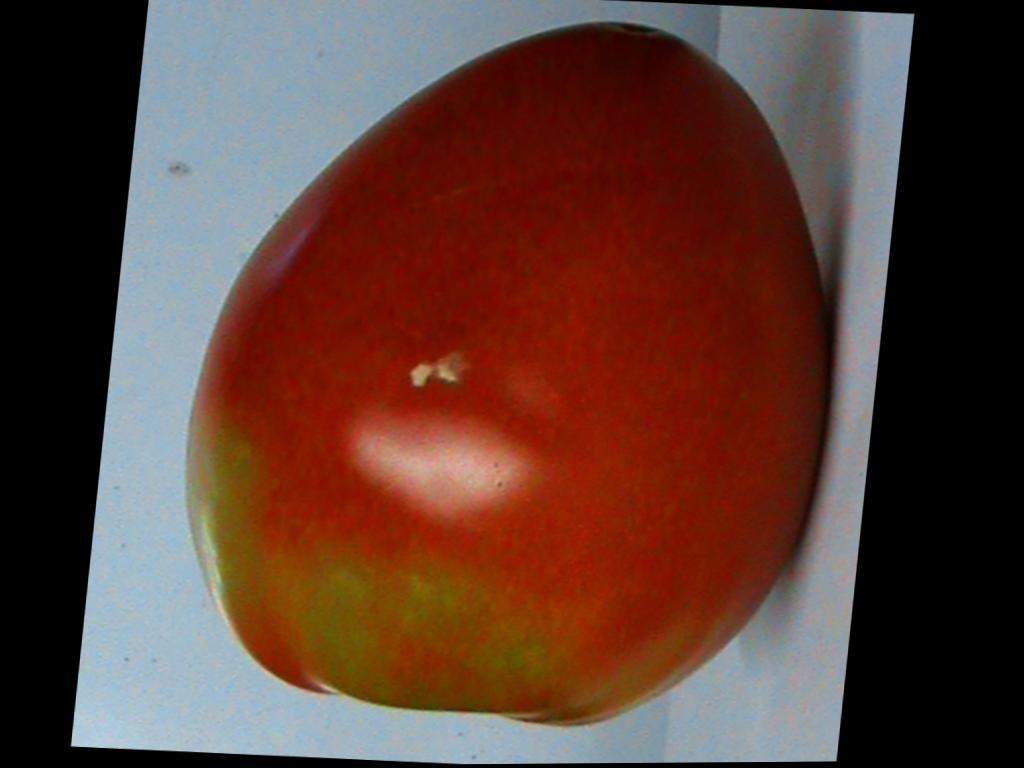bruise_discoloration: (185, 396, 702, 726)
surface_damage: (410, 353, 465, 386)
tomato: (187, 24, 824, 722)
